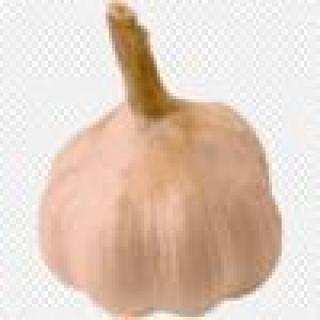Bawang Putih: (15, 2, 304, 320)
